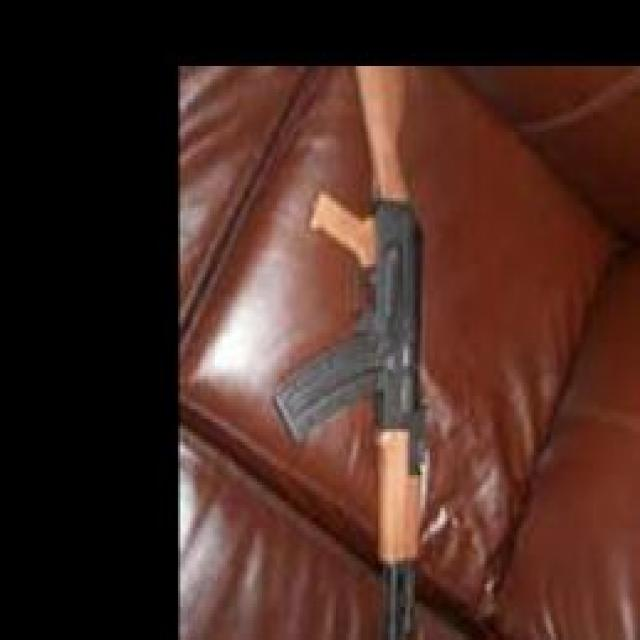heavy-weapon: (272, 67, 432, 640)
